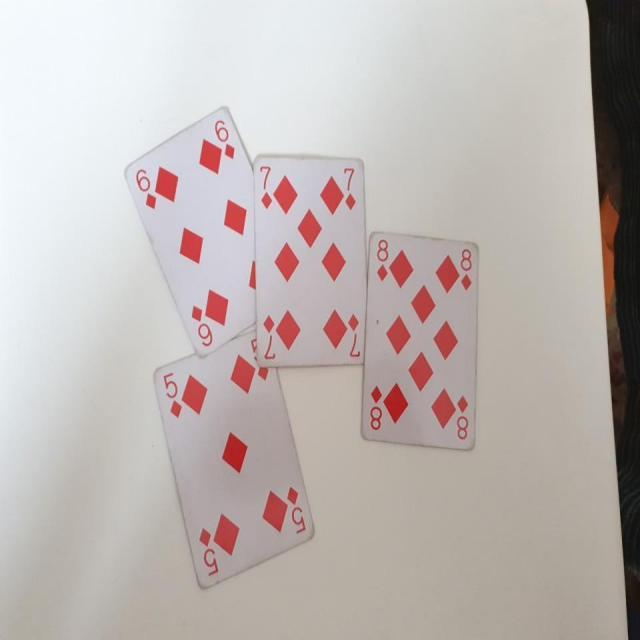5 of diamonds: (148, 320, 316, 591)
6 of diamonds: (122, 104, 256, 359)
7 of diamonds: (254, 152, 368, 366)
8 of diamonds: (358, 230, 479, 448)
